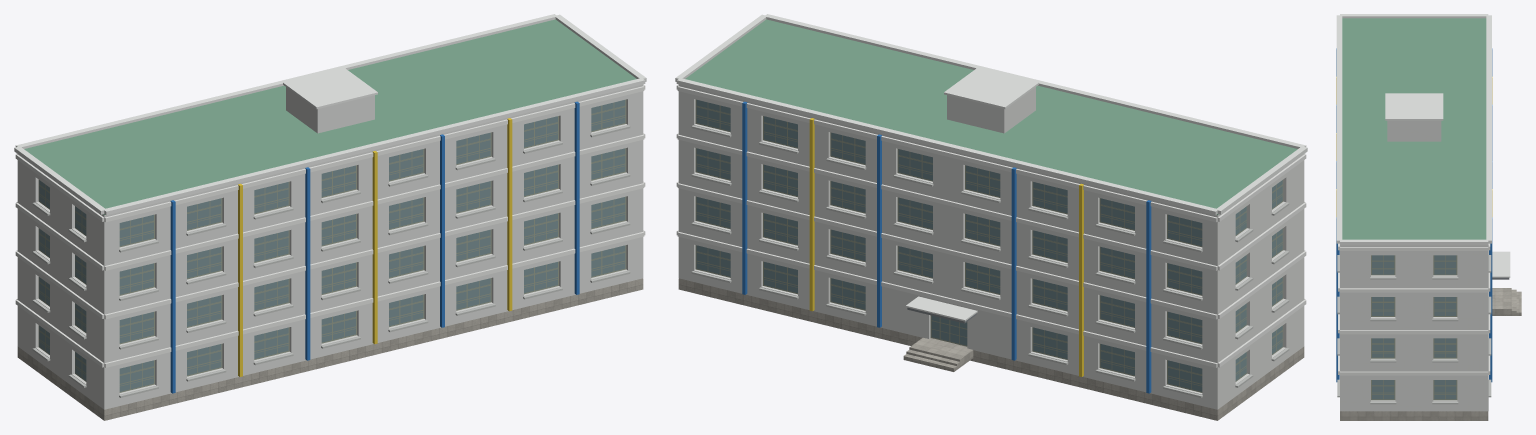
3 renders of one model, left to right at view 1: azimuth 30°, elevation 25°; view 2: azimuth 150°, elevation 25°; view 3: azimuth 270°, elevation 25°, orthographic. The views are drawn at different scales.
Visible parts, largest first — view 1: science-wing__panel, science-wing__roof, science-wing__sideglass, science-wing__band, science-wing__frame, science-wing__cap, science-wing__stone, science-wing__sill, science-wing__blue, science-wing__yellow; view 2: science-wing__panel, science-wing__roof, science-wing__glass, science-wing__band, science-wing__cap, science-wing__frame, science-wing__stone, science-wing__sill, science-wing__blue, science-wing__yellow, science-wing__sideglass, science-wing__stair-front (+1 smaller); view 3: science-wing__roof, science-wing__panel, science-wing__cap, science-wing__sideglass, science-wing__band, science-wing__frame, science-wing__stone, science-wing__sill, science-wing__blue, science-wing__stair-front, science-wing__threshold-front.
Boxes of the visible parts, bbox=[...] form: science-wing__panel: bbox=[17, 84, 643, 409]; science-wing__roof: bbox=[24, 19, 636, 215]; science-wing__sideglass: bbox=[39, 100, 625, 391]; science-wing__band: bbox=[15, 84, 645, 367]; science-wing__frame: bbox=[38, 99, 626, 392]; science-wing__cap: bbox=[14, 14, 646, 215]; science-wing__stone: bbox=[17, 278, 643, 420]; science-wing__sill: bbox=[32, 125, 630, 397]; science-wing__blue: bbox=[170, 101, 579, 393]; science-wing__yellow: bbox=[238, 118, 512, 376]; science-wing__panel: bbox=[678, 84, 1304, 409]; science-wing__roof: bbox=[685, 19, 1297, 215]; science-wing__glass: bbox=[696, 100, 1202, 391]; science-wing__band: bbox=[676, 84, 1306, 367]; science-wing__cap: bbox=[675, 14, 1307, 321]; science-wing__frame: bbox=[695, 99, 1283, 392]; science-wing__stone: bbox=[678, 278, 1304, 420]; science-wing__sill: bbox=[691, 125, 1289, 397]; science-wing__blue: bbox=[742, 101, 1151, 393]; science-wing__yellow: bbox=[809, 118, 1083, 376]; science-wing__sideglass: bbox=[1235, 180, 1282, 380]; science-wing__stair-front: bbox=[903, 345, 962, 371]; science-wing__roof: bbox=[1342, 18, 1486, 239]; science-wing__panel: bbox=[1340, 120, 1488, 411]; science-wing__cap: bbox=[1336, 14, 1510, 277]; science-wing__sideglass: bbox=[1372, 255, 1456, 399]; science-wing__band: bbox=[1338, 243, 1490, 375]; science-wing__frame: bbox=[1371, 255, 1457, 400]; science-wing__stone: bbox=[1340, 411, 1488, 420]; science-wing__sill: bbox=[1337, 255, 1491, 404]; science-wing__blue: bbox=[1336, 48, 1492, 382]; science-wing__stair-front: bbox=[1506, 288, 1521, 315]; science-wing__threshold-front: bbox=[1492, 288, 1506, 315].
Size of the model in its own units: 40 by 16.54 by 13.76.
Materials: 13 (1 with a texture image).
